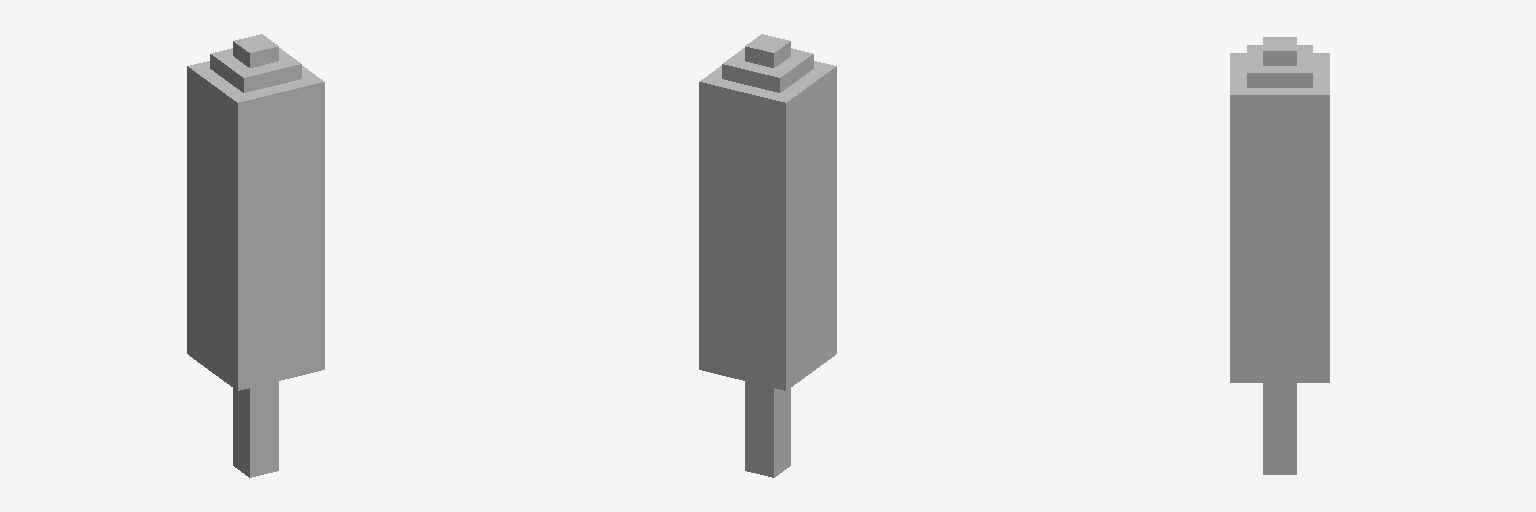
Rendered from tree1.obj.
3 renders of one model, left to right at view 1: azimuth 30°, elevation 25°; view 2: azimuth 150°, elevation 25°; view 3: azimuth 270°, elevation 25°, orthographic.
Visible parts, largest first — view 1: tree1; view 2: tree1; view 3: tree1.
Part boxes in pixels (x1,y1,x2,y2): tree1: (187,34,324,477); tree1: (699,34,836,477); tree1: (1230,37,1329,474).
Size of the model in its own units: 6 by 28 by 6.